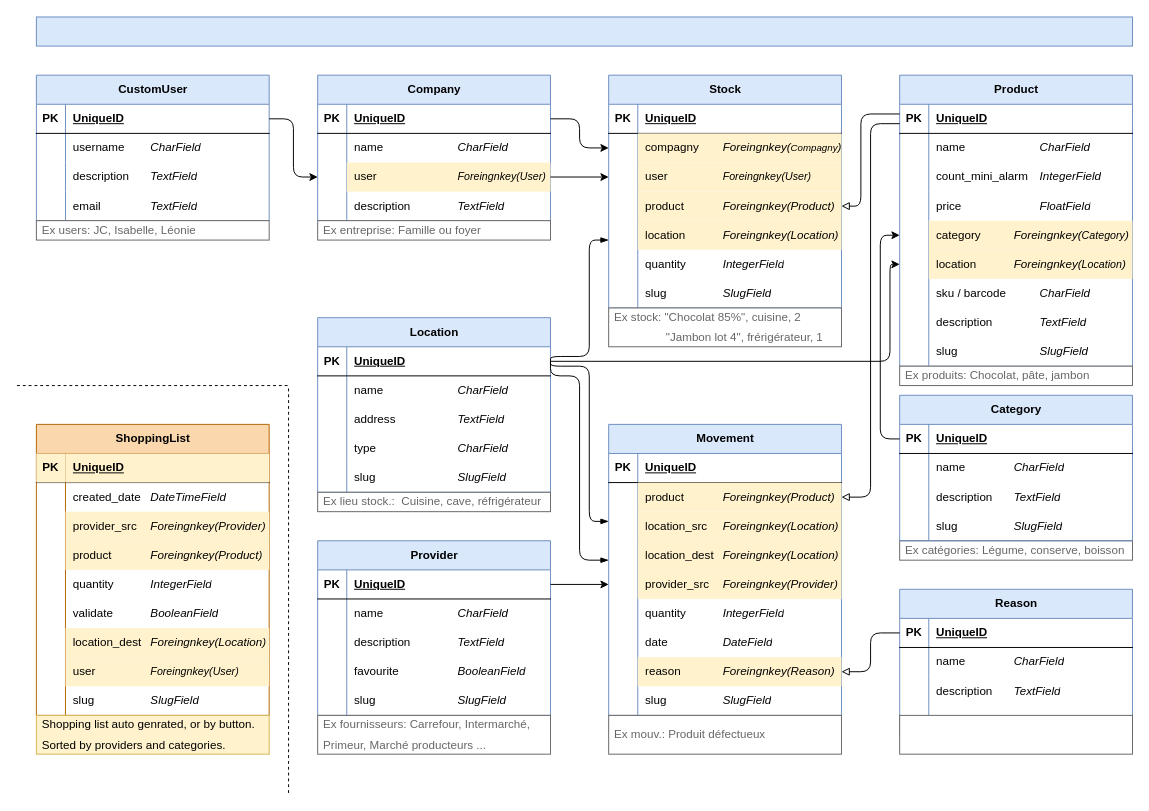
Image size: 1149x811. Some labels were removed from this diagram. Here are the shapes that lost their labels. From the top down, the centre of each, then its label:
the point at 583,31: Stock - Database relations diagram - 2025-06-10
the point at 1015,734: Ex raison: Défectueux, avarie, promo
